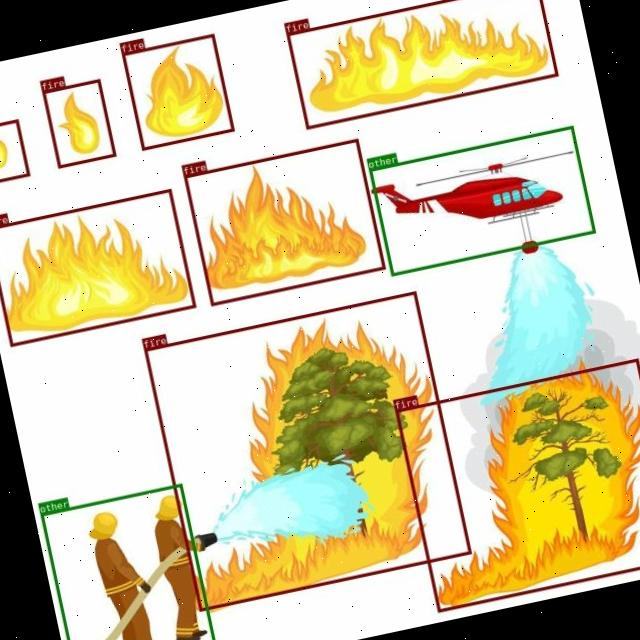fire: (143, 290, 471, 610), (394, 357, 640, 612), (285, 0, 557, 128), (183, 138, 385, 306), (0, 188, 195, 346), (121, 33, 234, 149), (41, 78, 115, 168), (0, 118, 29, 186)
